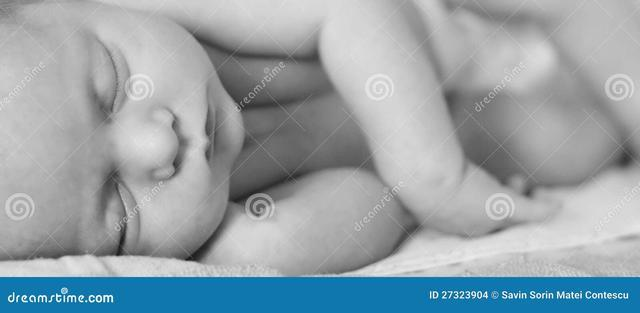sleep: (0, 0, 244, 261)
